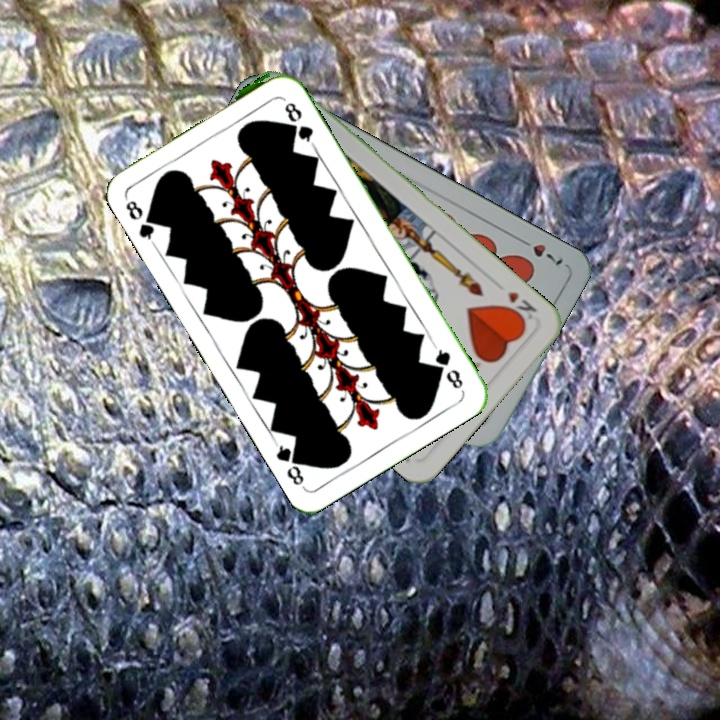G8: (119, 189, 162, 243), (429, 340, 466, 392)
H7: (513, 233, 566, 268)
HK: (500, 287, 540, 328)
